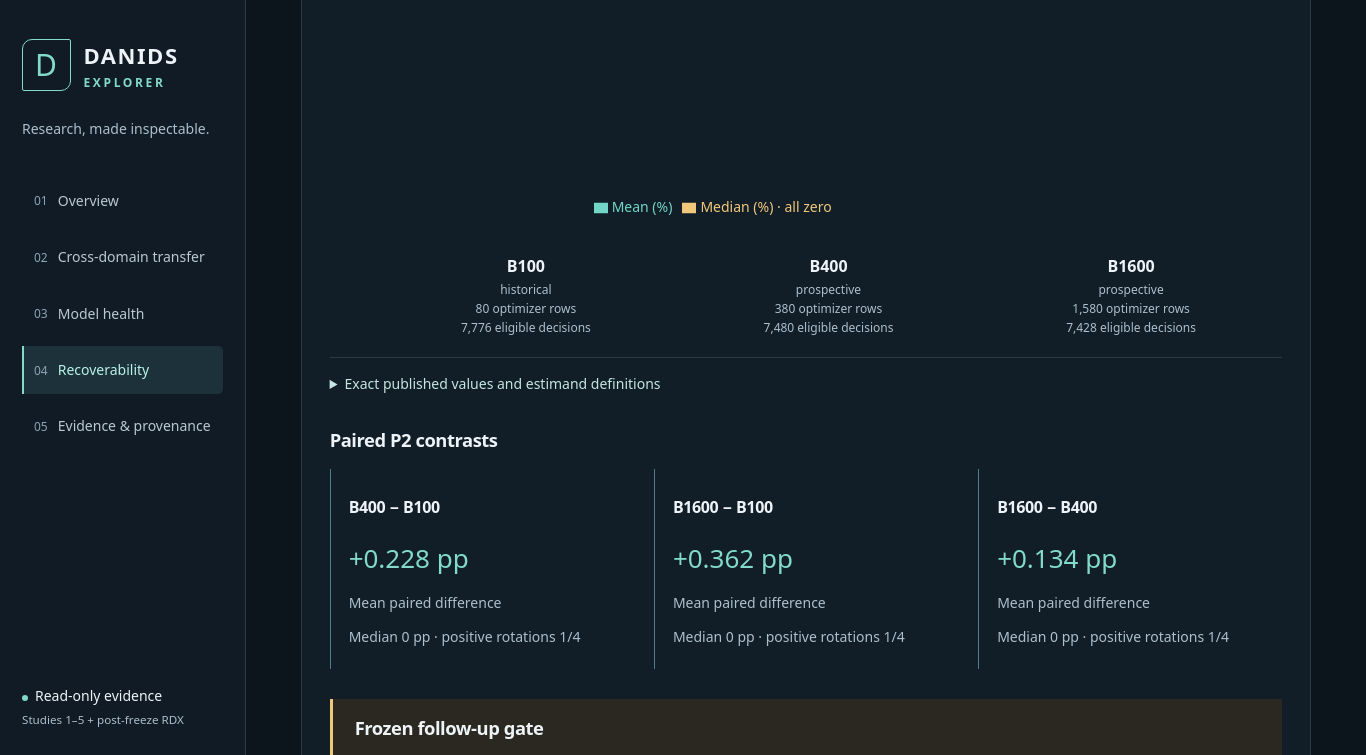
Test case: five evidence routes › preserves censoring, timing and zero medians
(page scrolled)
Expected: the text "historical" is shown, left=500, top=280, right=552, bottom=298
Expected: the text "prospective" is shown 2 times, left=796, top=280, right=861, bottom=298; left=1098, top=280, right=1164, bottom=298
Click the heading "Exact published values and estimand definitions". click: (503, 384)
box: left=344, top=374, right=661, bottom=393
(page scrolled)
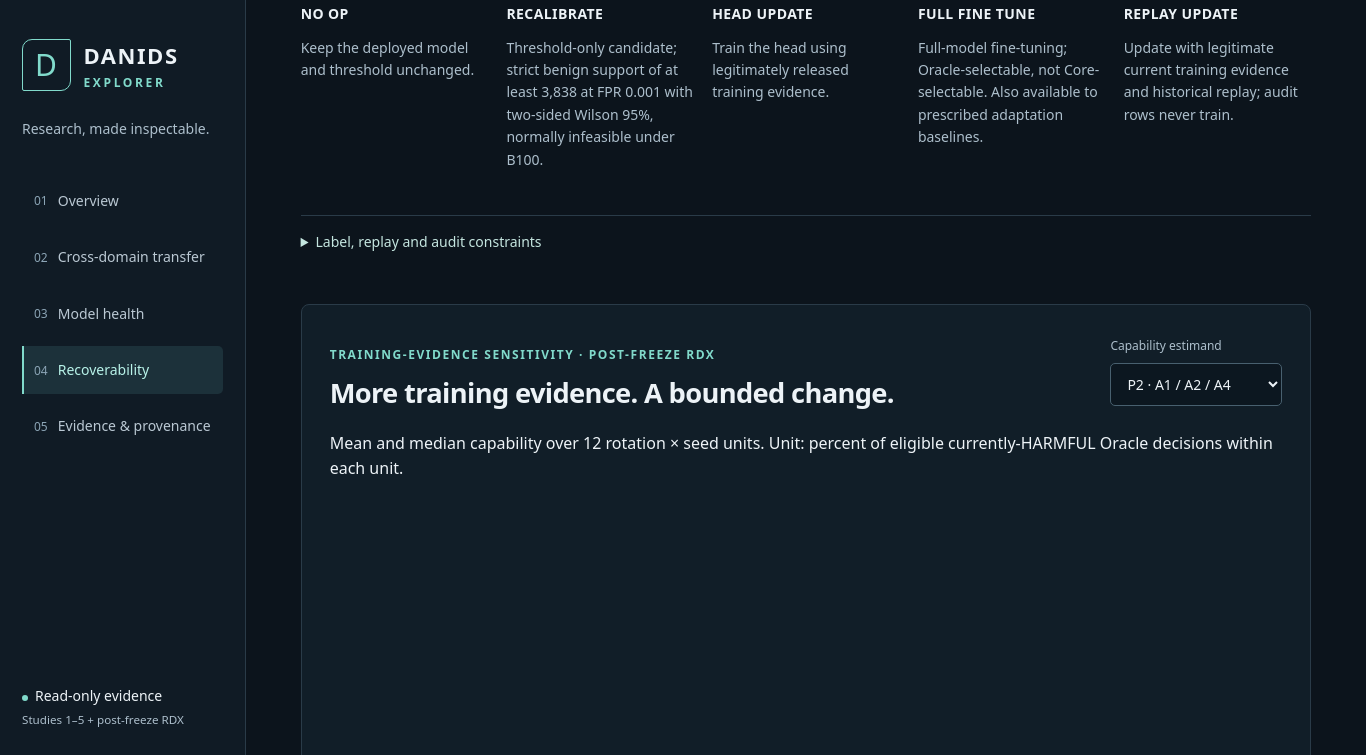
Select "P1 · A0–A4" in the dropdown labelled "Capability estimand". click: (1196, 384)
box: left=1110, top=363, right=1282, bottom=406
(page scrolled)
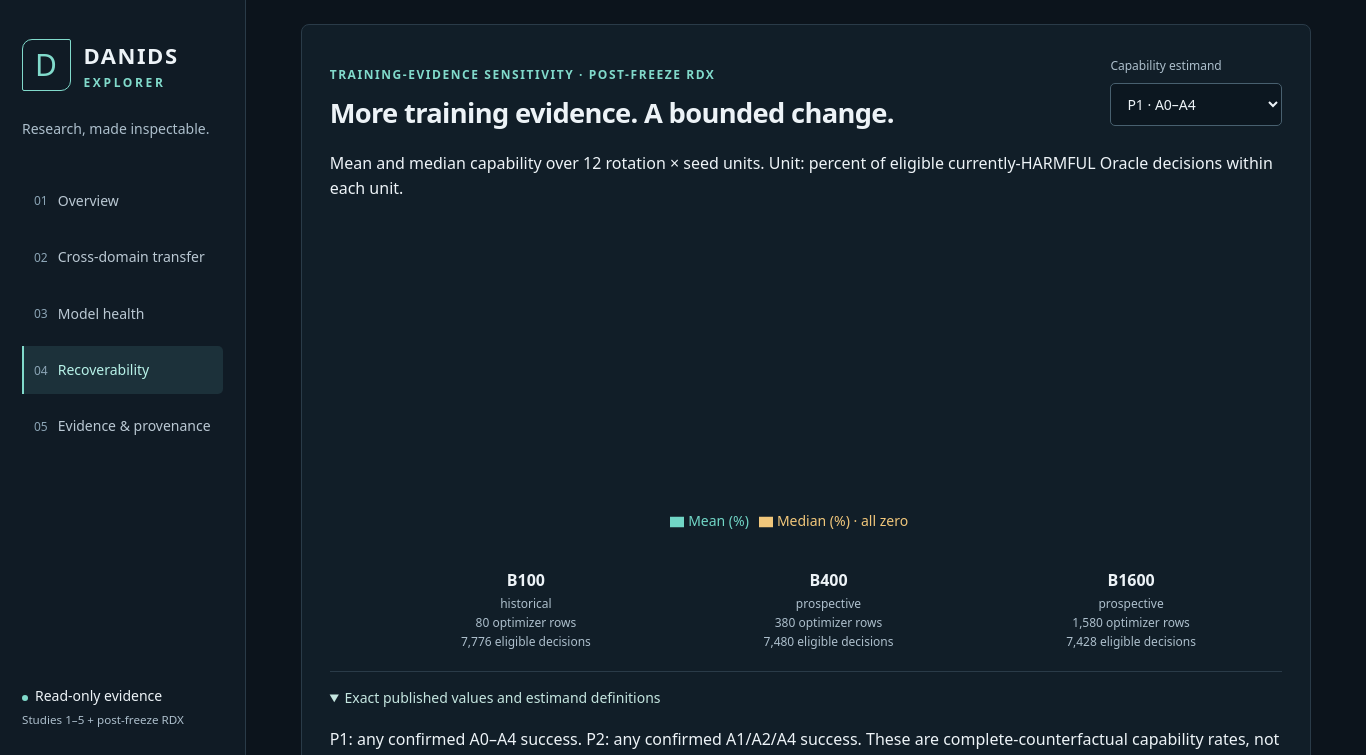
Expected: the picture named "P1 mean and median" is shown, left=330, top=230, right=1282, bottom=540
